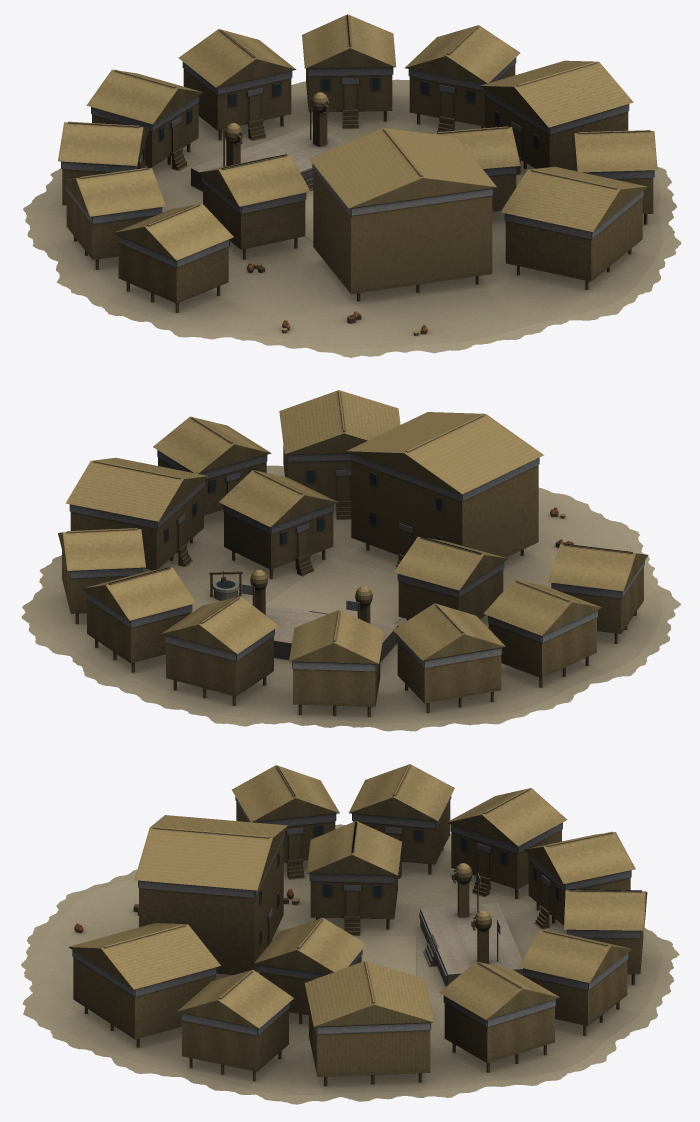
The model's file is bronze-town-medium-b-pacific.glb.
3 views of the same model, one above another, from view 1: azimuth 30°, elevation 25°; view 2: azimuth 150°, elevation 25°; view 3: azimuth 270°, elevation 25° (orthographic).
Visible parts, largest first — view 1: LOD0; view 2: LOD0; view 3: LOD0.
Part boxes in pixels (x1,y1,x2,y2): LOD0: (23,14,681,357); LOD0: (21,390,680,731); LOD0: (21,764,679,1104).
Size of what is drawn, in the model's own units: 5.96 by 1.22 by 5.93.
Materials: 3 (3 with a texture image).
